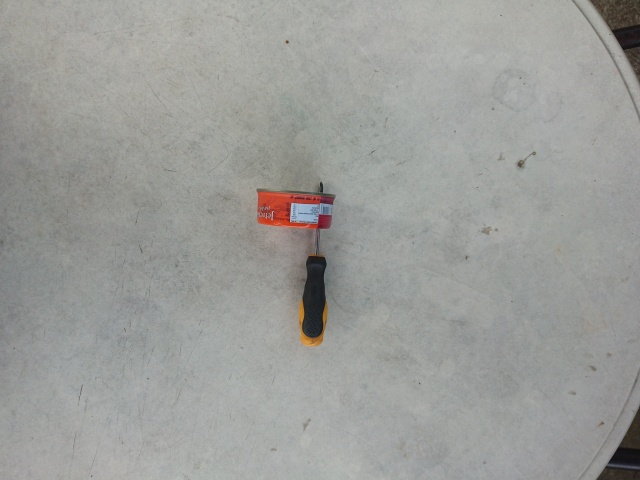Gavrilovic Pork Liver Pate 100g: (254, 186, 337, 231)
